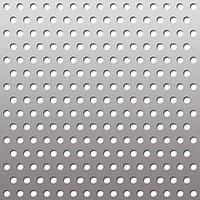Hole: (134, 187, 147, 200), (187, 134, 200, 146), (160, 1, 173, 13), (28, 188, 40, 200), (1, 188, 13, 200), (54, 108, 66, 120), (134, 81, 146, 93), (20, 41, 32, 53), (141, 14, 153, 26), (167, 14, 179, 26), (94, 1, 106, 13), (1, 1, 13, 13), (87, 68, 100, 79), (115, 40, 126, 53), (87, 15, 100, 26), (188, 188, 200, 199), (174, 188, 185, 200), (108, 187, 119, 199), (68, 188, 79, 200), (61, 174, 72, 186), (101, 174, 113, 185), (141, 174, 152, 186), (181, 148, 193, 159), (120, 135, 132, 146), (88, 121, 100, 132), (154, 121, 166, 132), (181, 121, 193, 132), (174, 108, 186, 119), (68, 108, 80, 119), (28, 109, 40, 120), (1, 108, 13, 119), (8, 95, 20, 106), (48, 94, 60, 105), (74, 94, 85, 106), (128, 95, 140, 106), (175, 81, 186, 93), (94, 81, 106, 92), (21, 68, 33, 79), (114, 68, 126, 79), (128, 67, 139, 79), (155, 67, 166, 79), (175, 54, 186, 66), (148, 55, 160, 66), (95, 54, 106, 66), (142, 40, 153, 52), (121, 28, 133, 39), (54, 28, 66, 39), (61, 14, 72, 26), (102, 14, 113, 26), (181, 14, 193, 25), (82, 1, 94, 12), (95, 187, 105, 200), (82, 187, 92, 200), (15, 187, 25, 200), (74, 175, 87, 185), (74, 122, 87, 132), (147, 82, 160, 92), (161, 188, 172, 199), (35, 175, 46, 186), (115, 174, 126, 185), (155, 174, 166, 185), (161, 161, 172, 172), (81, 161, 92, 172), (54, 161, 65, 172), (41, 161, 52, 172), (34, 148, 45, 159), (128, 148, 139, 159), (142, 148, 153, 159), (167, 148, 178, 159), (108, 134, 119, 145), (94, 135, 105, 146), (35, 121, 46, 132), (61, 121, 72, 132), (115, 121, 126, 132), (128, 121, 139, 132), (135, 108, 146, 119), (121, 108, 132, 119), (108, 108, 119, 119), (35, 94, 46, 105), (182, 94, 193, 105), (188, 81, 199, 92), (108, 81, 119, 92), (68, 81, 79, 92), (54, 81, 65, 92), (41, 81, 52, 92), (15, 81, 26, 92), (1, 81, 12, 92), (34, 68, 45, 79), (61, 68, 72, 79), (75, 68, 86, 79), (141, 68, 152, 79), (121, 54, 132, 65), (28, 55, 39, 66), (8, 41, 19, 52), (48, 41, 59, 52), (68, 28, 79, 39), (28, 28, 39, 39), (15, 28, 26, 39), (1, 28, 12, 39), (188, 1, 199, 12), (148, 1, 159, 12), (122, 187, 132, 199), (55, 187, 65, 199), (88, 174, 98, 186), (155, 147, 165, 159), (161, 135, 173, 145), (148, 135, 160, 145), (27, 135, 39, 145), (48, 122, 60, 132), (141, 122, 153, 132), (161, 109, 173, 119), (148, 109, 160, 119), (15, 108, 25, 120), (102, 94, 112, 106), (102, 68, 112, 80), (181, 69, 193, 79), (35, 41, 45, 53), (62, 41, 72, 53), (155, 41, 165, 53), (168, 41, 178, 53), (149, 188, 159, 199), (41, 188, 51, 199), (8, 175, 19, 185), (21, 175, 32, 185), (169, 175, 180, 185), (182, 175, 193, 185), (188, 161, 199, 171), (174, 162, 185, 172), (68, 161, 78, 172), (28, 162, 39, 172), (22, 148, 32, 159), (48, 148, 58, 159), (75, 148, 85, 159), (174, 135, 185, 145), (81, 135, 92, 145), (68, 135, 79, 145), (41, 135, 52, 145), (8, 121, 18, 132), (21, 121, 32, 131), (188, 108, 199, 118), (95, 108, 105, 119), (81, 109, 92, 119), (42, 108, 52, 119), (21, 95, 32, 105), (62, 94, 72, 105), (88, 95, 99, 105), (115, 94, 125, 105), (161, 82, 172, 92), (82, 81, 92, 92), (28, 82, 39, 92), (48, 68, 59, 78), (168, 68, 178, 79), (188, 55, 199, 65), (161, 55, 172, 65), (135, 54, 145, 65), (108, 55, 119, 65), (68, 55, 79, 65), (55, 54, 65, 65), (2, 54, 12, 65), (74, 42, 85, 52), (88, 42, 98, 53), (188, 28, 199, 38), (135, 29, 146, 39), (108, 28, 119, 38), (81, 29, 92, 39), (115, 15, 126, 25), (128, 15, 139, 25), (155, 15, 166, 25), (122, 1, 132, 12), (55, 1, 65, 12), (42, 1, 52, 12), (95, 162, 105, 172), (88, 148, 98, 158), (102, 149, 112, 159), (115, 148, 125, 158), (135, 135, 145, 145), (55, 135, 65, 145), (15, 135, 25, 145), (2, 135, 12, 145), (102, 121, 112, 131), (142, 95, 152, 105), (155, 95, 165, 105), (168, 95, 178, 105), (122, 81, 132, 91), (82, 55, 92, 65), (41, 55, 51, 65), (15, 55, 25, 65), (102, 41, 112, 51), (182, 42, 192, 52), (175, 28, 185, 38), (95, 29, 105, 39), (8, 15, 18, 25), (35, 15, 45, 25), (48, 15, 58, 25), (75, 14, 85, 24), (175, 2, 185, 12), (135, 2, 145, 12), (109, 2, 119, 12), (69, 2, 79, 12), (29, 2, 39, 12), (15, 2, 25, 12), (135, 162, 146, 171), (109, 161, 118, 172), (15, 161, 24, 172), (168, 122, 179, 131), (9, 68, 18, 79), (162, 28, 171, 39), (148, 29, 159, 38), (49, 175, 58, 185), (129, 175, 138, 185), (149, 161, 158, 171), (122, 162, 132, 171), (2, 161, 11, 171), (62, 148, 71, 158), (129, 42, 138, 52), (22, 15, 31, 25), (9, 149, 18, 158), (42, 29, 51, 38)
